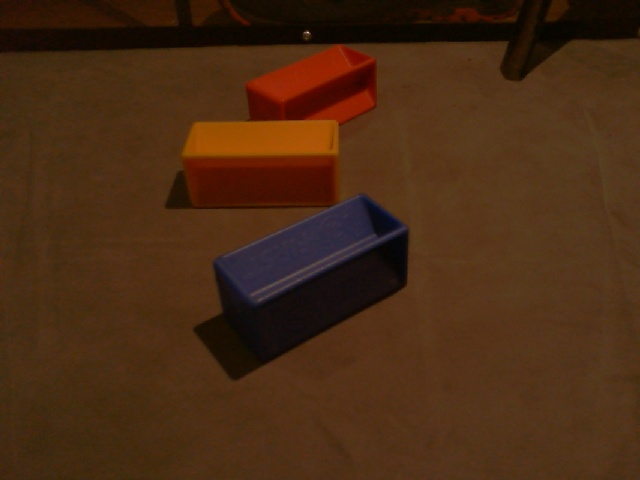BlueSample: (212, 192, 409, 357)
RedSample: (245, 43, 380, 136)
YellowSample: (175, 117, 341, 210)
